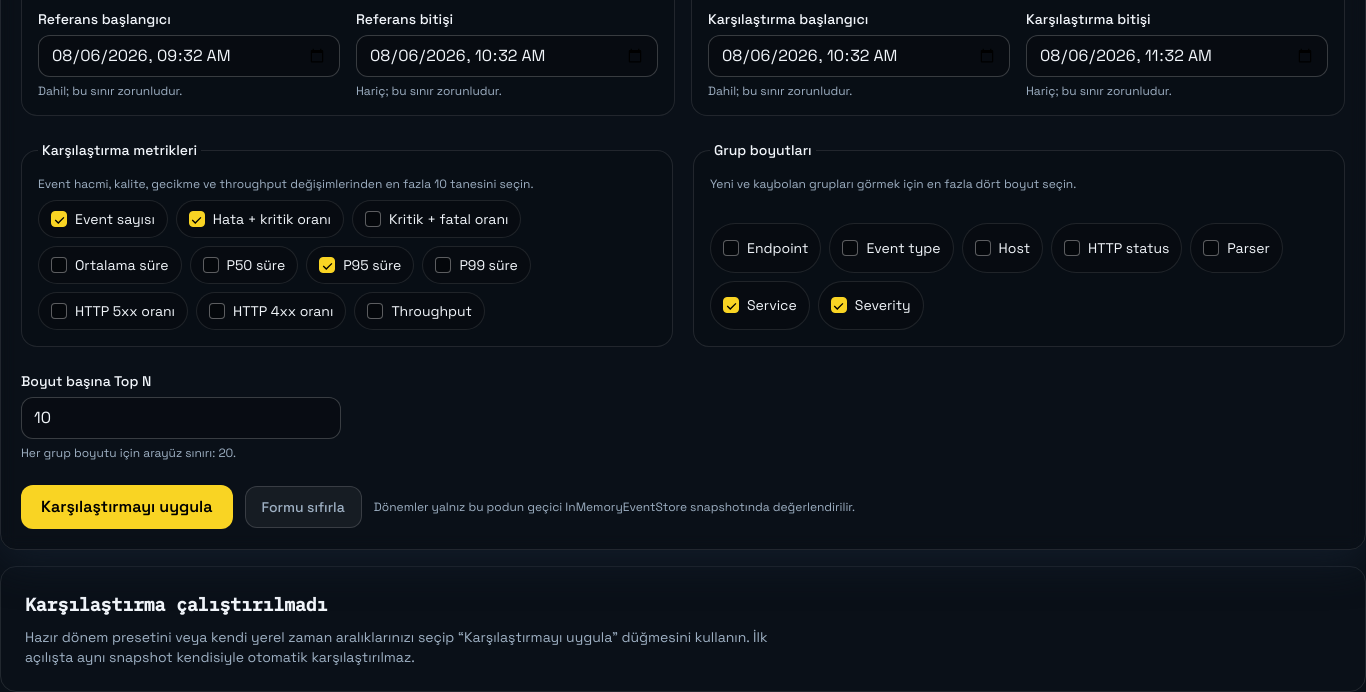
Test case: ComparisonAnalysisPage › renders the dedicated empty state when both periods contain no events
(page scrolled)
Click the button "Karşılaştırmayı uygula": (127, 507) [21,485,232,529]
(page scrolled)
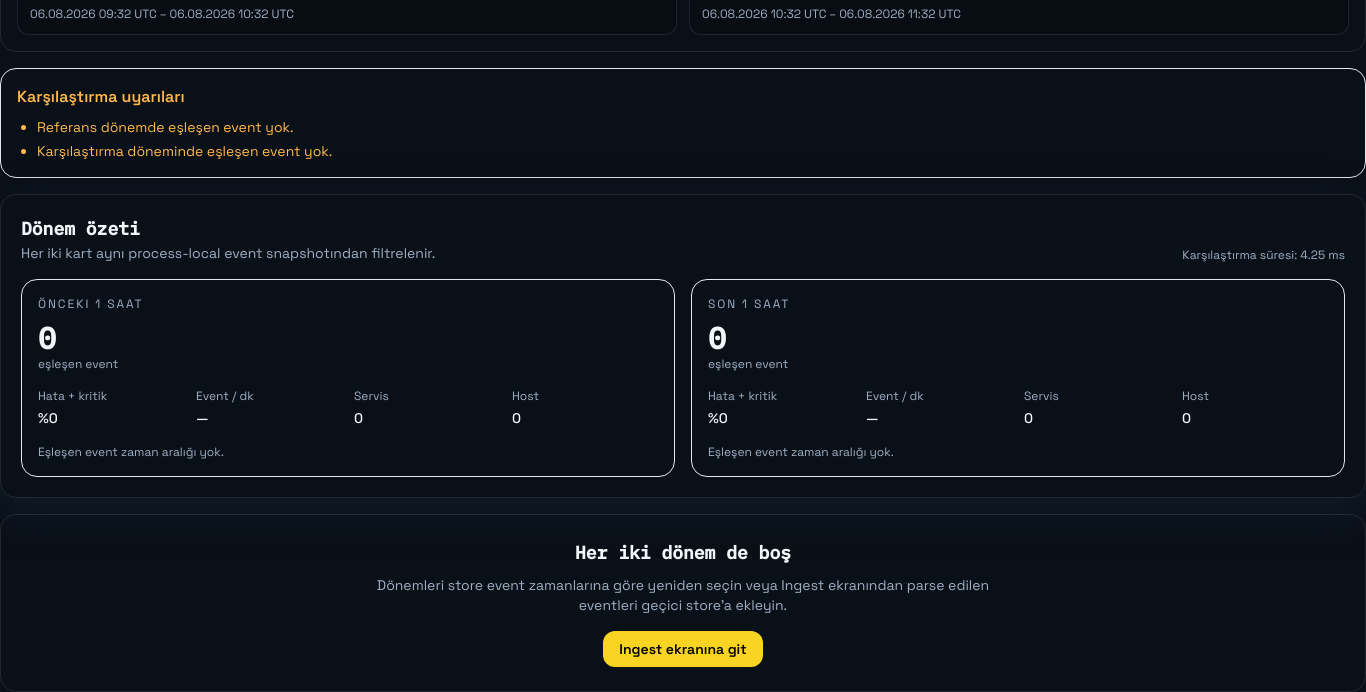
Expected: the heading "Her iki dönem de boş" is shown, [575,541,791,564]
